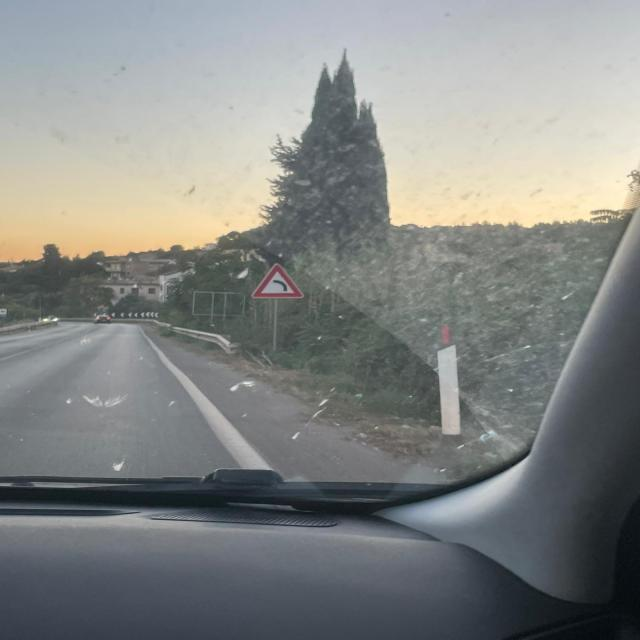warn_left_curve: (251, 263, 304, 300)
